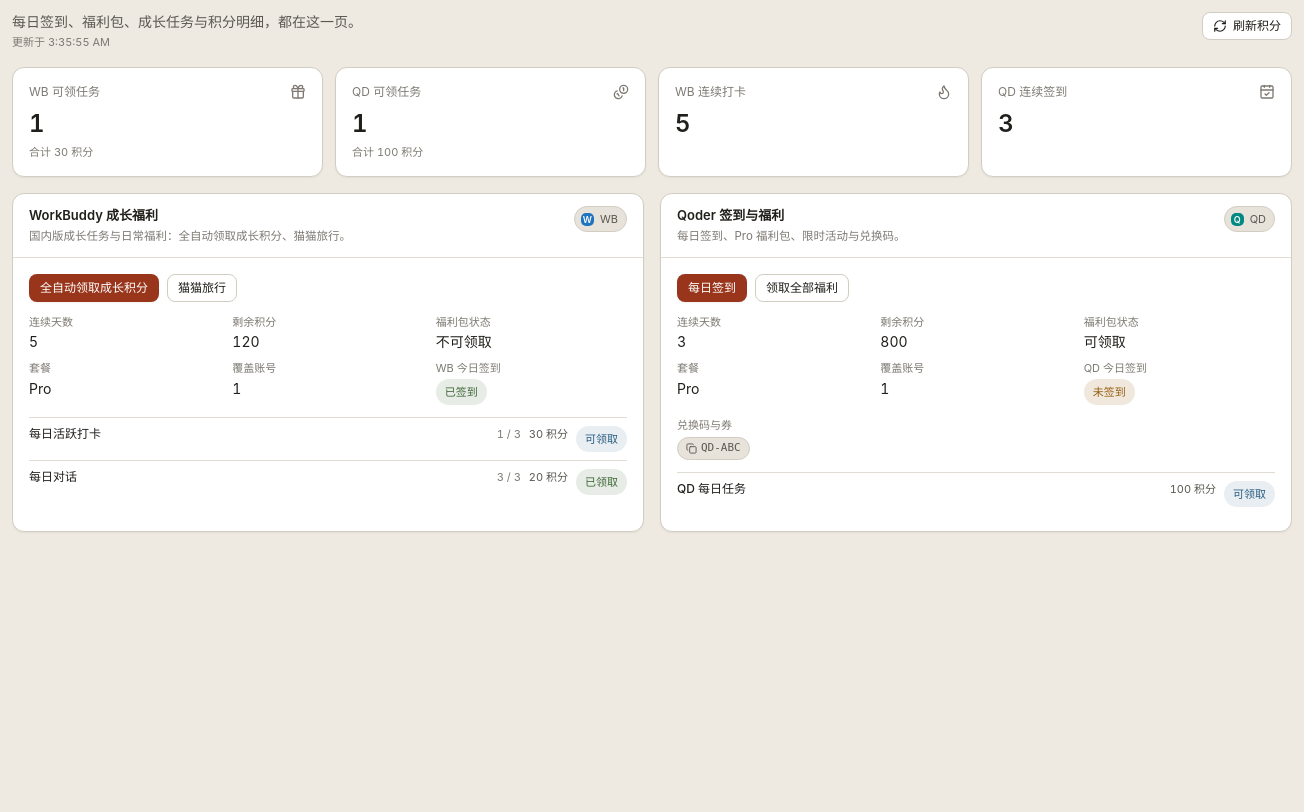
Test: RewardsView › WB 动作失败只影响自己：错误就地说明，QD 签到照常可点并成功
Expected: the text "每日活跃打卡" is shown, [29,426,101,441]
Click the button "全自动领取成长积分": (94, 288) [29,274,159,302]
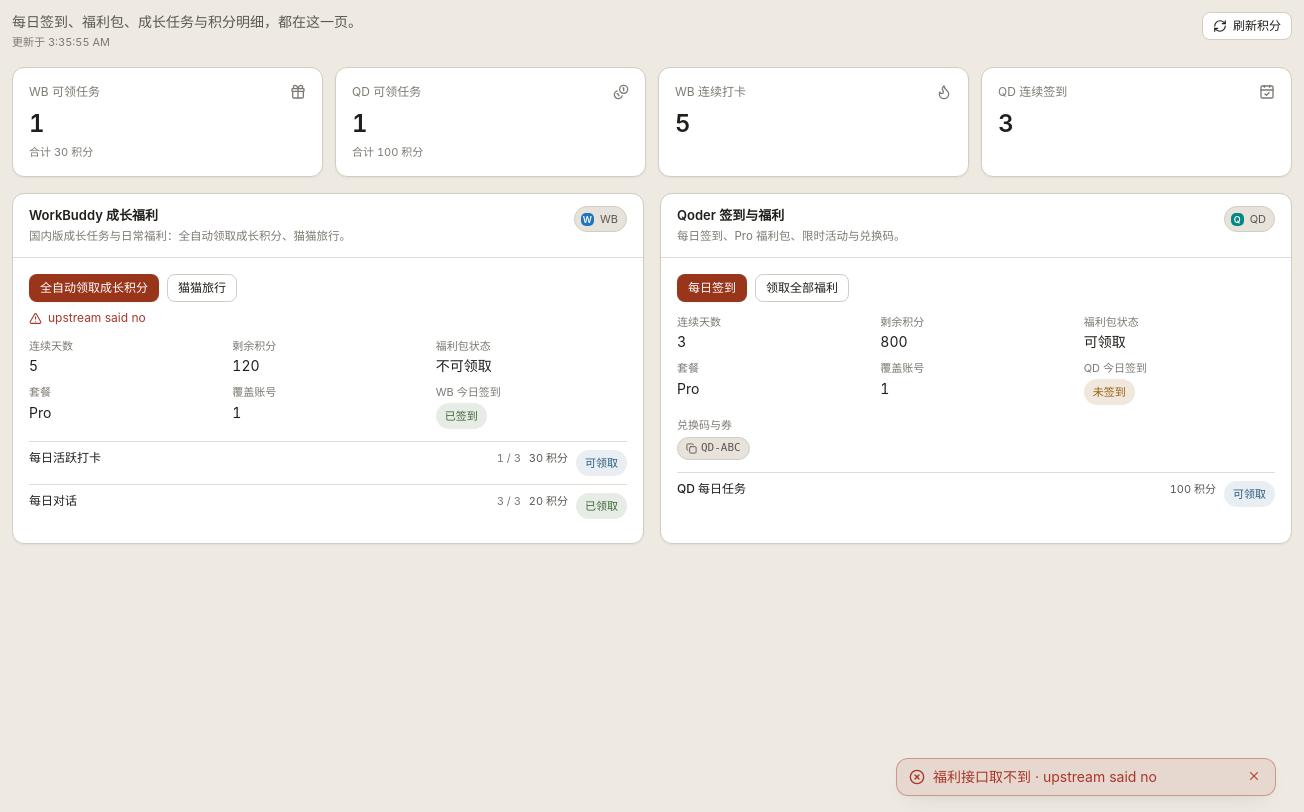
Expected: the text "福利接口取不到 · upstream said no" is shown, [933,768,1157,785]
Expected: the text "upstream said no" is shown, [48,310,146,326]
Click the button "每日签到": (712, 288) [677,274,747,302]
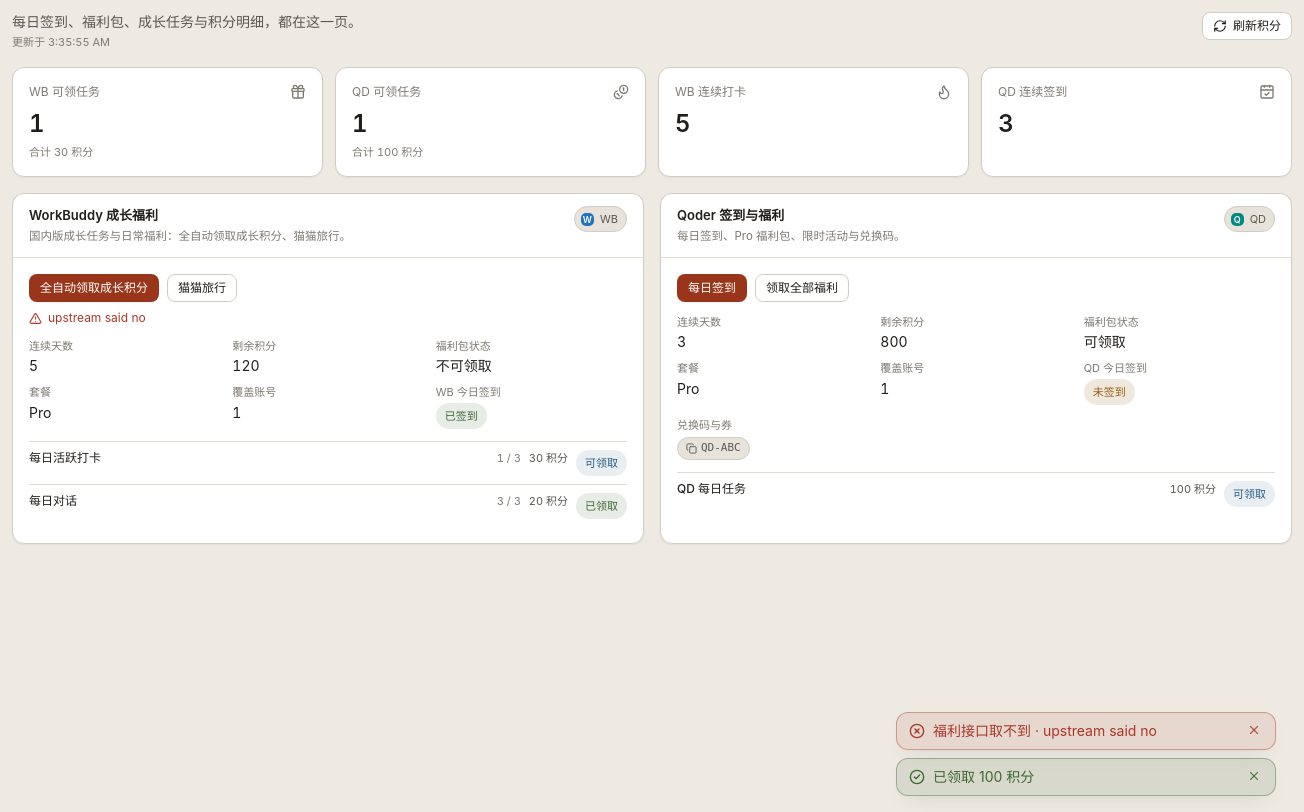
Expected: the text "已领取 100 积分" is shown, [933,768,1034,785]
